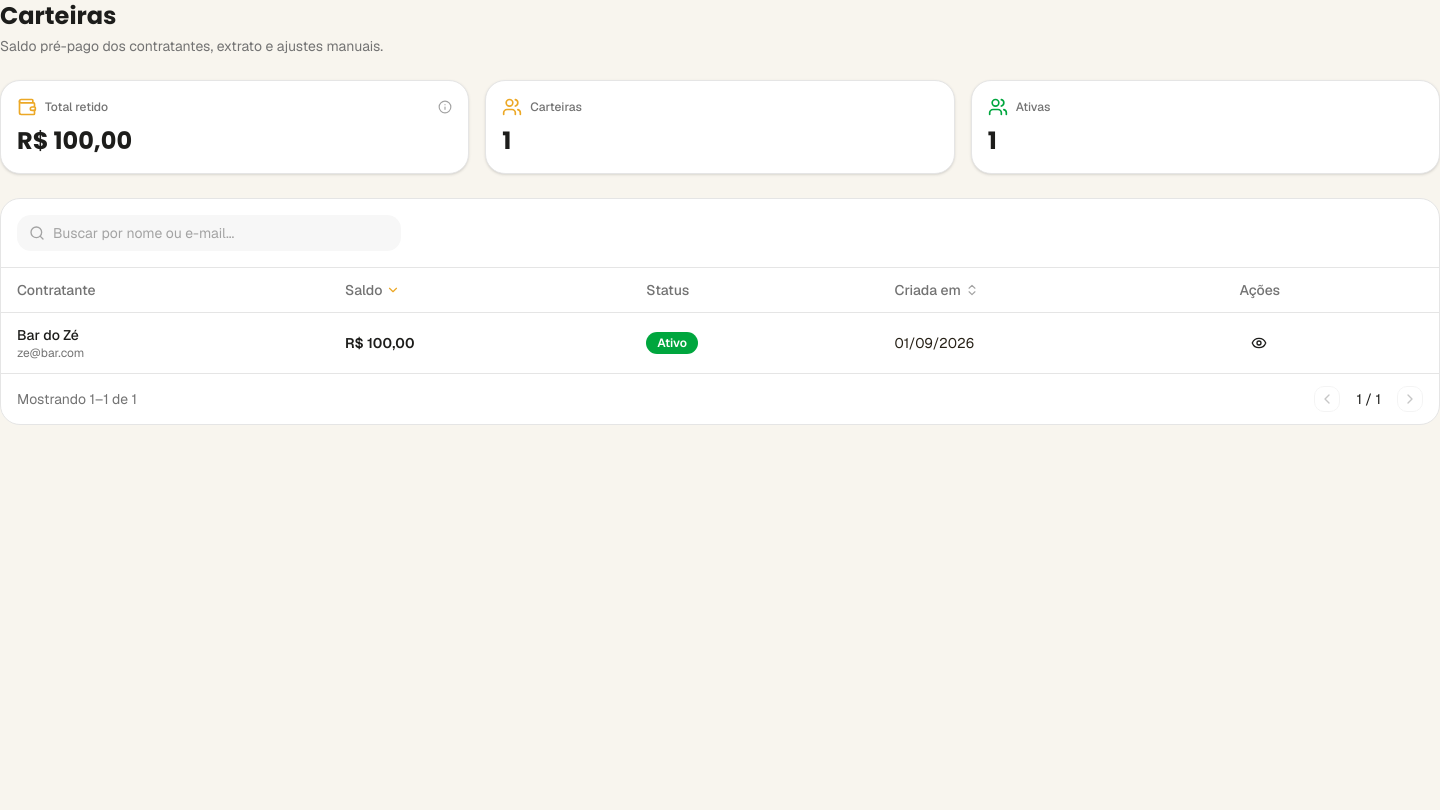
Scenario: Carteiras — detalhe da carteira › extrato ainda carregando: o ajuste não abre com o saldo da linha da lista
This screenshot has width=1440, height=810.
Step 1. Click the button named "Ver carteira" → (1260, 343), box x1=1240 y1=327 x2=1280 y2=359
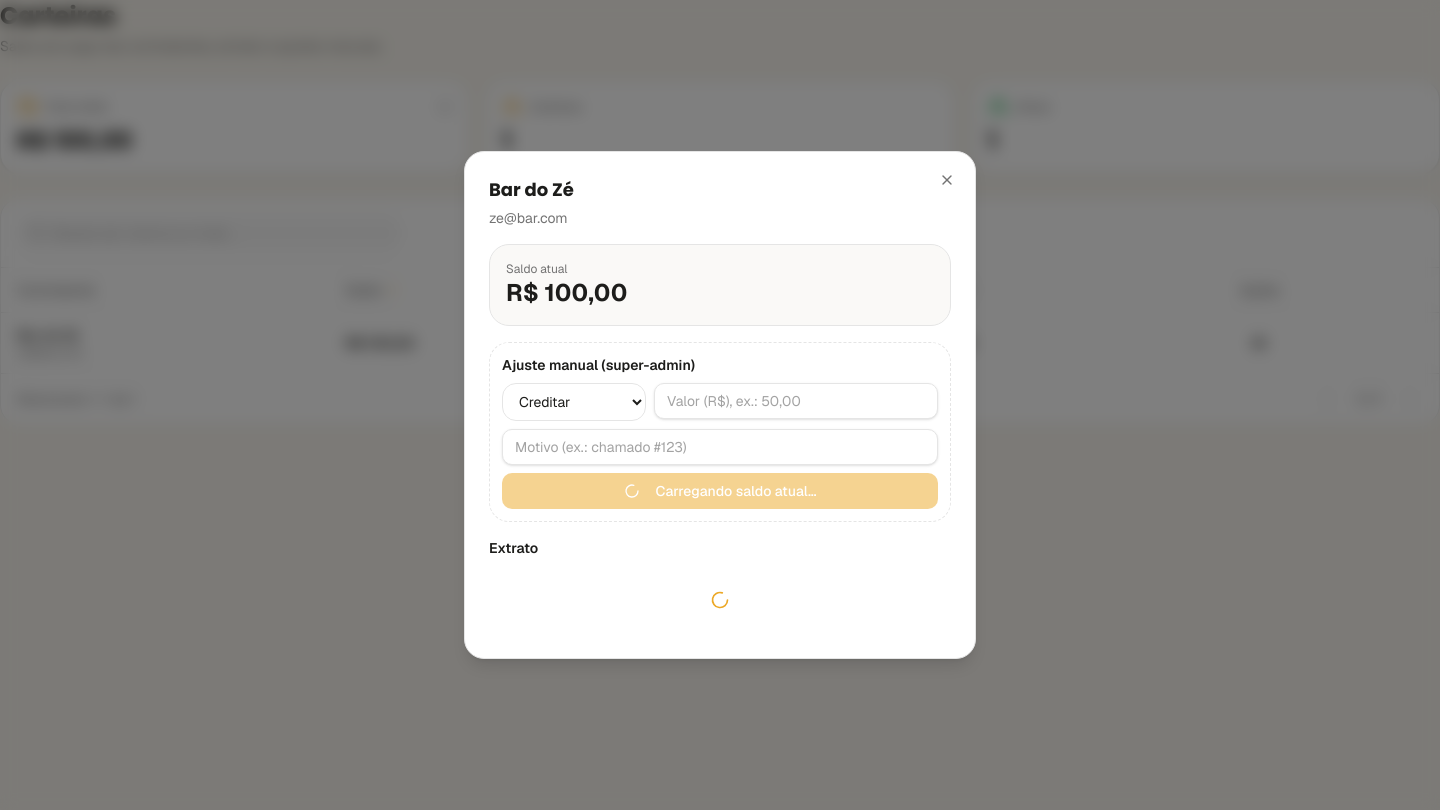
Check: the button "Carregando saldo atual…" is disabled, box x1=502 y1=473 x2=938 y2=509
